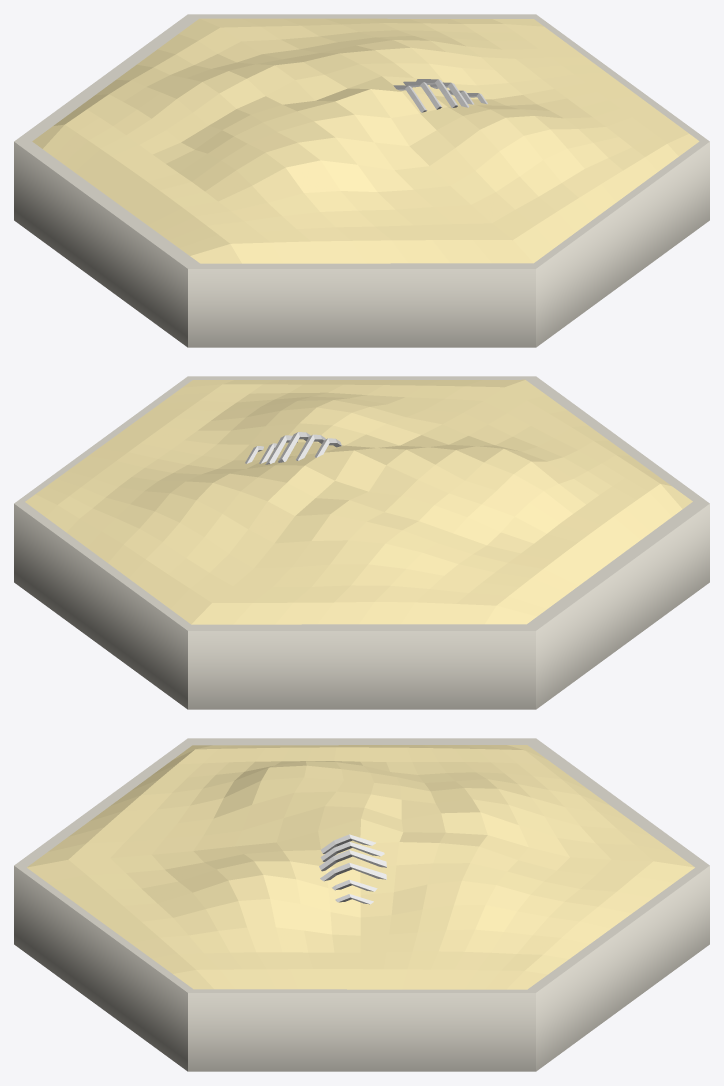
The model's file is desertfix.fbx.
The picture shows the model from 3 angles, top to bottom: view 1: azimuth 30°, elevation 25°; view 2: azimuth 150°, elevation 25°; view 3: azimuth 270°, elevation 25°; orthographic projection.
Parts seen in each view (by area): view 1: Plane, Hexagon; view 2: Plane, Hexagon; view 3: Plane, Hexagon, Cube.002.
Boxes of the visible parts, x1=… form: Plane: x1=32, y1=18, x2=699, y2=263; Hexagon: x1=14, y1=14, x2=709, y2=347; Plane: x1=25, y1=379, x2=692, y2=624; Hexagon: x1=14, y1=376, x2=709, y2=709; Plane: x1=27, y1=745, x2=694, y2=989; Hexagon: x1=14, y1=738, x2=709, y2=1071; Cube.002: x1=319, y1=850, x2=386, y2=871.
Bounding box in the file's own units: 346 × 82.24 × 400.
